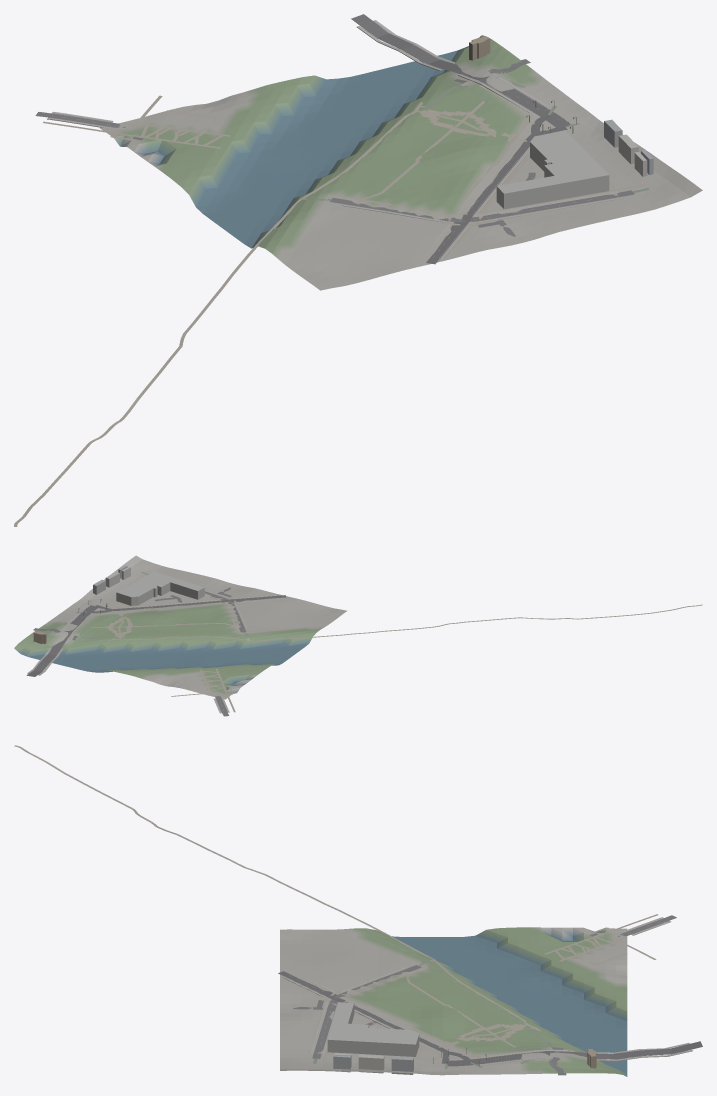
Rendered from tile_-2_6.glb.
3 renders of one model, top to bottom at view 1: azimuth 30°, elevation 25°; view 2: azimuth 150°, elevation 25°; view 3: azimuth 270°, elevation 25°, orthographic. The views are drawn at different scales.
Parts seen in each view (by area): view 1: terrain, paths, buildings, roads, sidewalks; view 2: terrain, paths, buildings, roads, sidewalks; view 3: terrain, paths, buildings, roads, sidewalks.
Part boxes in pixels (x1,y1,x2,y2): terrain: [100, 35, 702, 290]; paths: [14, 63, 649, 526]; buildings: [469, 36, 653, 209]; roads: [35, 14, 634, 264]; sidewalks: [47, 20, 623, 258]; terrain: [14, 555, 347, 699]; paths: [51, 572, 702, 712]; buildings: [33, 565, 204, 643]; roads: [26, 587, 286, 716]; sidewalks: [27, 590, 279, 713]; terrain: [280, 927, 627, 1076]; paths: [14, 745, 658, 1069]; buildings: [327, 1002, 596, 1074]; roads: [278, 915, 702, 1075]; sidewalks: [282, 917, 692, 1064].
Bounding box in the file's own units: 577 × 19.4 × 508.
